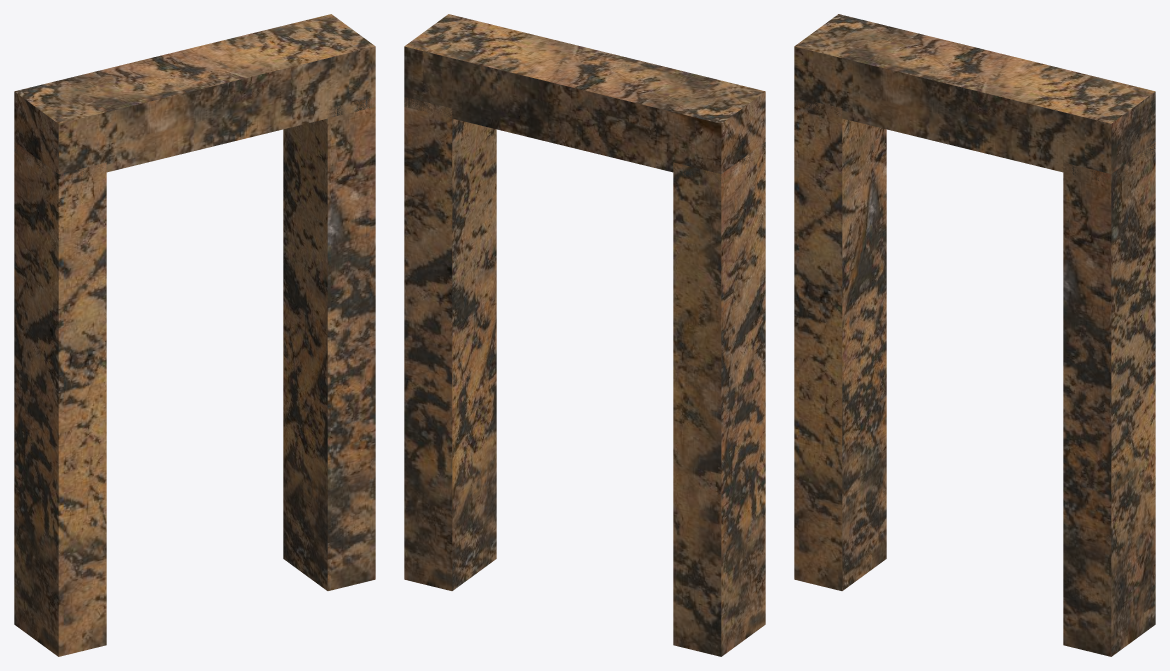
The model's file is door_frame.glb.
3 renders of one model, left to right at view 1: azimuth 30°, elevation 25°; view 2: azimuth 150°, elevation 25°; view 3: azimuth 330°, elevation 25°, orthographic.
Visible parts, largest first — view 1: door_frame; view 2: door_frame; view 3: door_frame.
Boxes of the visible parts, x1,y1,x2,y2 form: door_frame: (14,14,375,656); door_frame: (404,14,765,656); door_frame: (794,14,1155,656).
Size of the model in its own units: 1.65 by 2.65 by 0.4.
1 material, 1 textured.
